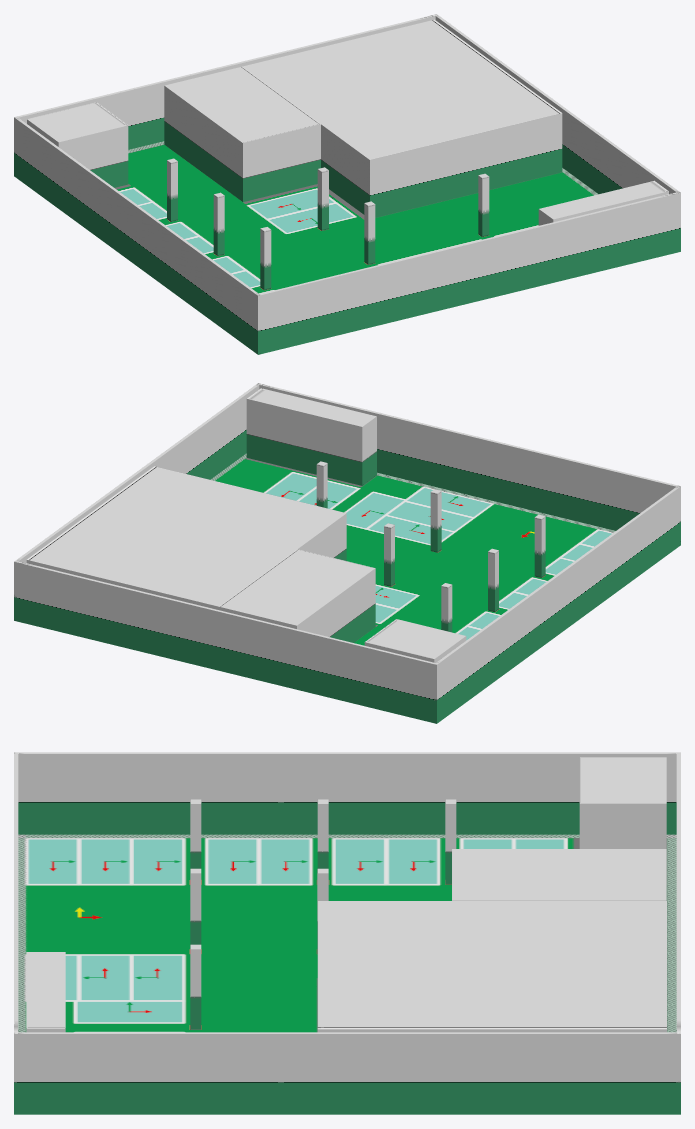
File: dcvs_underground_precise.dae
3 renders of one model, top to bottom at view 1: azimuth 30°, elevation 25°; view 2: azimuth 150°, elevation 25°; view 3: azimuth 270°, elevation 25°, orthographic. The views are drawn at different scales.
Visible parts, largest first — view 1: 立方体.002, 平面, 立方体.010, 立方体.012, 立方体.001, 立方体.013, 立方体.011, 立方体, 立方体.003, 立方体.008, 立方体.007, 立方体.009 (+3 smaller); view 2: 平面, 立方体.002, 立方体.011, 立方体.010, 立方体.012, 立方体.001, 立方体.003, 立方体.013, 立方体, 立方体.009, 立方体.004, 立方体.008 (+3 smaller); view 3: 平面, 立方体.013, 立方体.012, 立方体.002, 立方体.001, 立方体, 立方体.003, 立方体.011, 立方体.010, 立方体.007, 立方体.009, 立方体.006 (+2 smaller).
Boxes of the visible parts, x1,y1,x2,y2 form: 立方体.002: (242,19,562,217); 平面: (115,141,598,293); 立方体.010: (256,192,680,354); 立方体.012: (14,116,260,354); 立方体.001: (164,66,320,201); 立方体.013: (434,14,680,251); 立方体.011: (14,14,437,175); 立方体: (27,102,128,187); 立方体.003: (538,180,668,225); 立方体.008: (317,167,328,230); 立方体.007: (478,173,489,236); 立方体.009: (364,201,375,264); 平面: (210,453,615,645); 立方体.002: (26,466,346,609); 立方体.011: (14,561,438,723); 立方体.010: (258,383,680,545); 立方体.012: (434,485,680,723); 立方体.001: (219,549,375,642); 立方体.003: (246,388,376,485); 立方体.013: (14,383,260,621); 立方体: (364,619,466,662); 立方体.009: (430,489,441,552); 立方体.004: (534,514,545,577); 立方体.008: (384,523,394,586); 平面: (18,834,676,1032); 立方体.013: (14,1032,680,1114); 立方体.012: (14,752,680,834); 立方体.002: (317,901,666,1032); 立方体.001: (452,849,666,900); 立方体: (579,757,666,848); 立方体.003: (26,952,65,1032); 立方体.011: (676,753,680,1114); 立方体.010: (14,752,18,1114); 立方体.007: (190,944,201,1029); 立方体.009: (190,868,201,944); 立方体.006: (445,799,456,884).
Size of the model in its own units: 30 by 30 by 4.
Materials: 9 (9 with a texture image).
